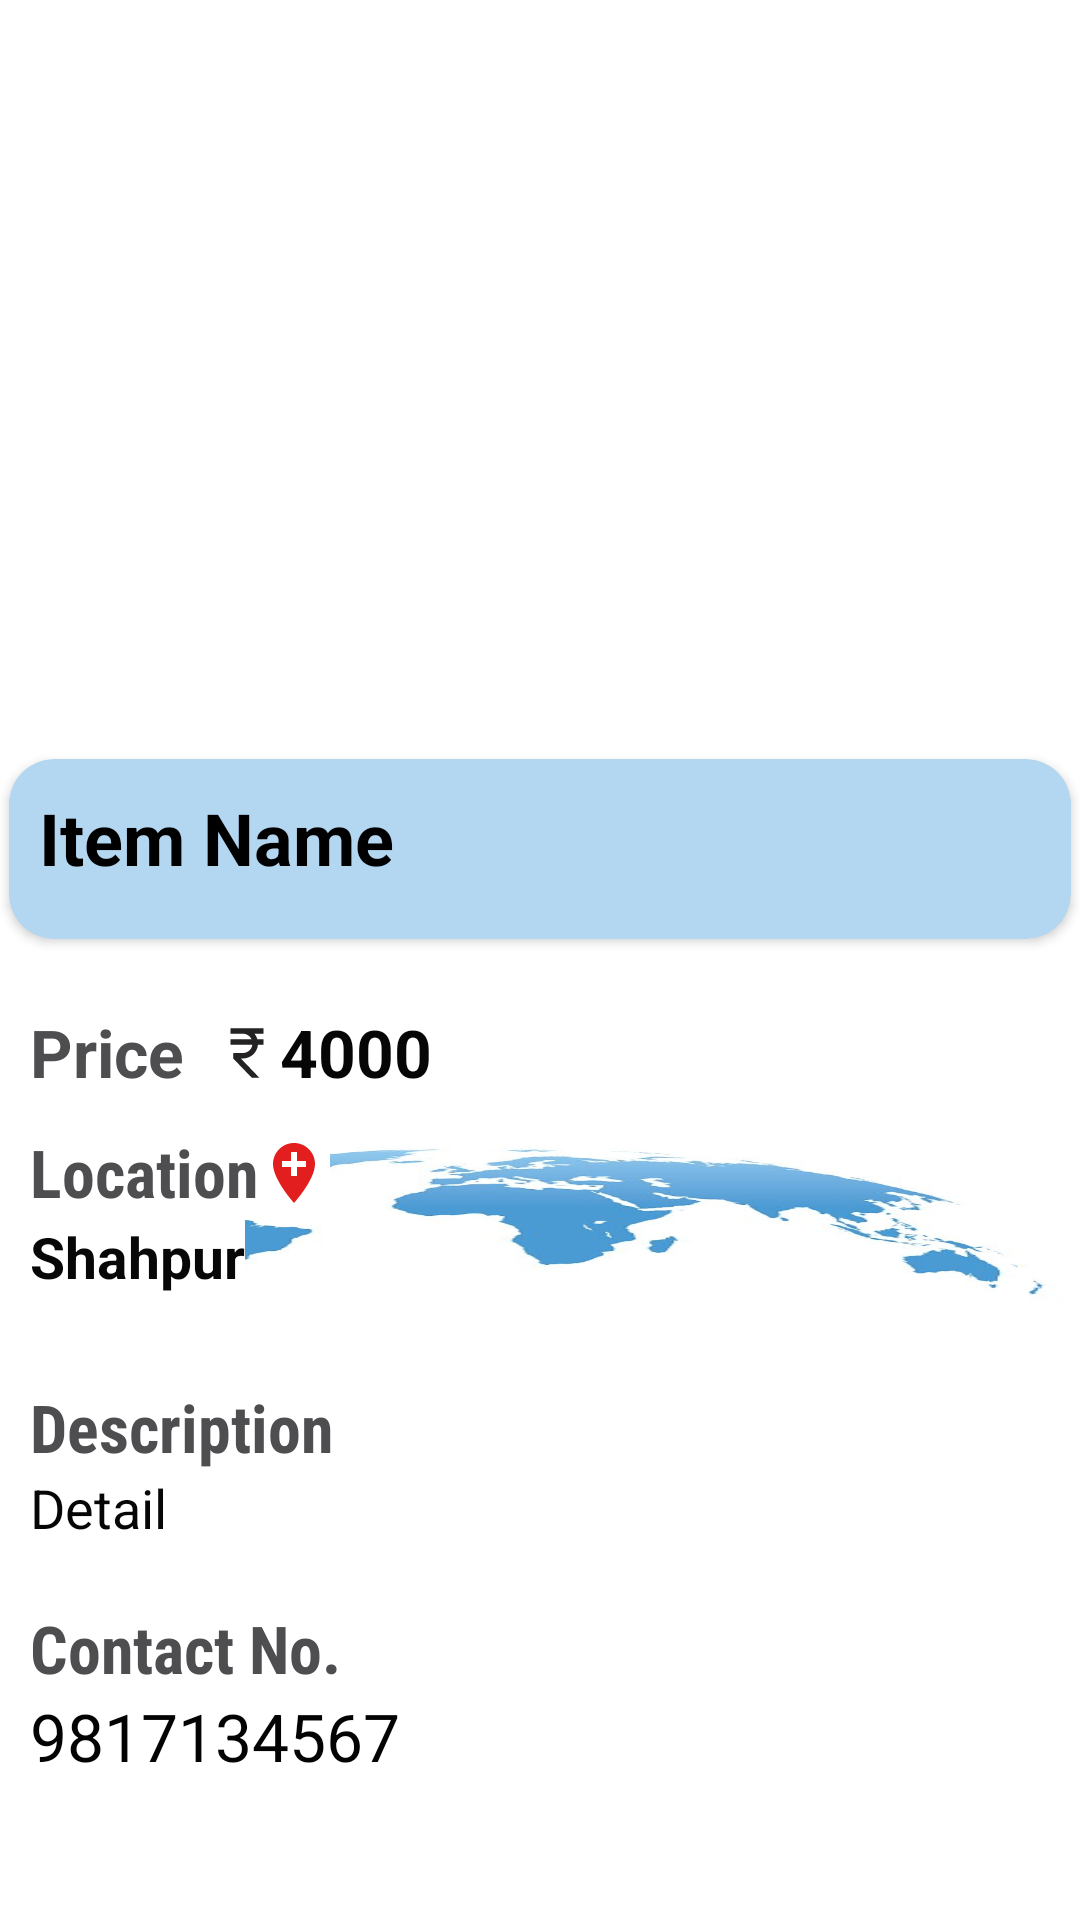

Point at icon controls on the screen. Image size 1080×1920, points as (x,y).
rupee: (247,1053)
